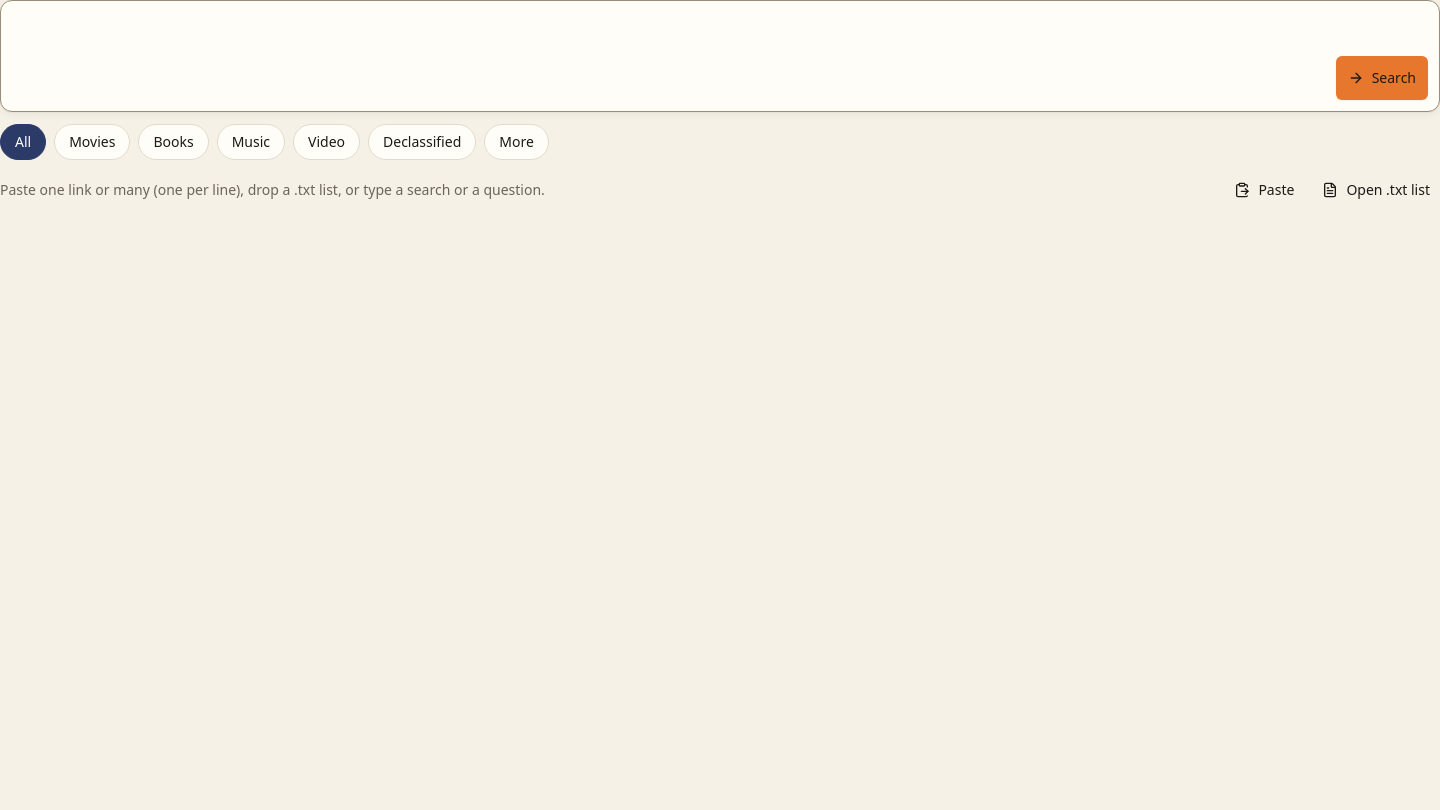
Test: PasteBox › probes one link and opens the preview
Type "files.test/a.zip" into the text box named "Search or paste links" at (720, 56), box left=0, top=0, right=1439, bottom=112
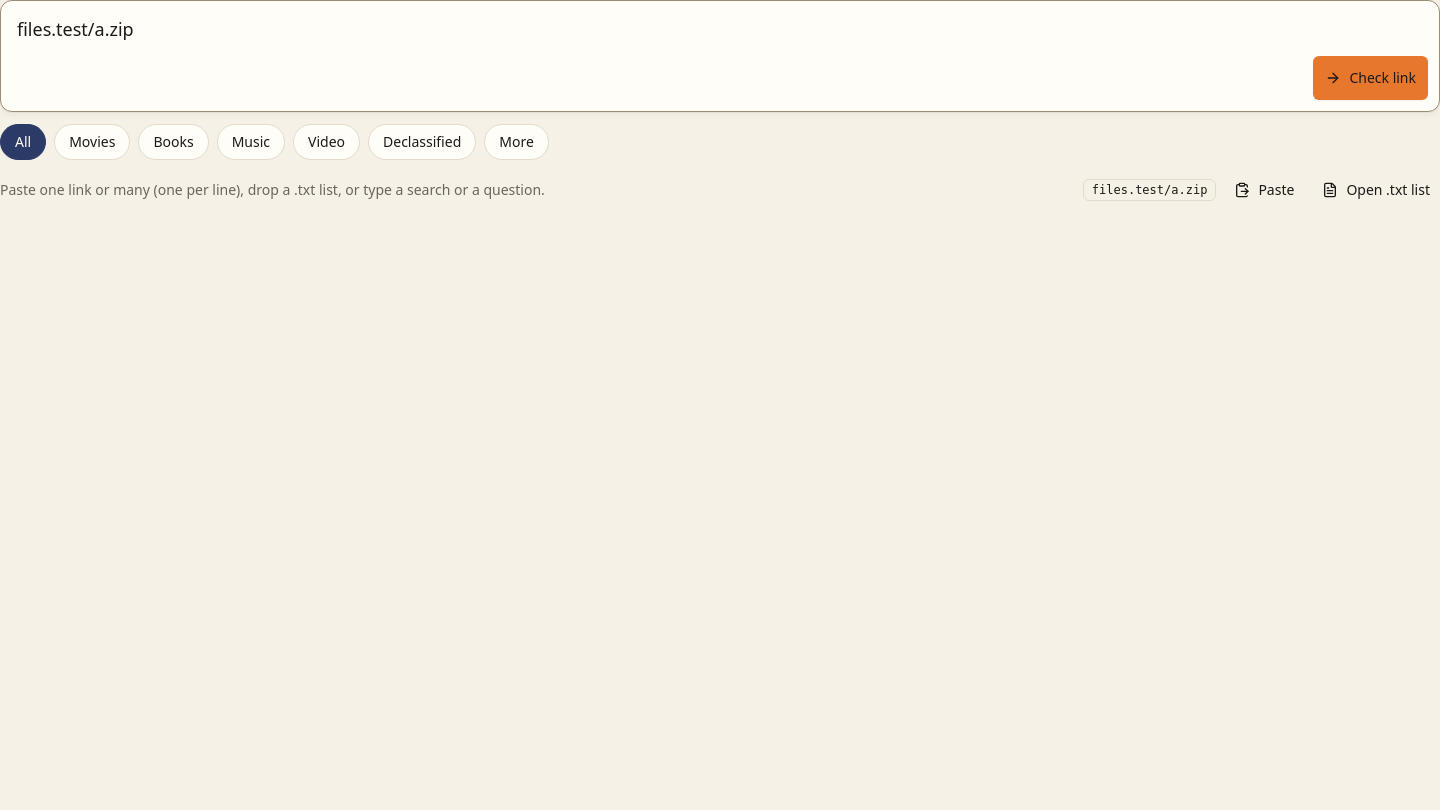
expect the text with test id "detect-chip" shows "files.test": met, box left=1092, top=183, right=1207, bottom=197
Click the button "Check link" at (1371, 78), box left=1313, top=56, right=1428, bottom=100
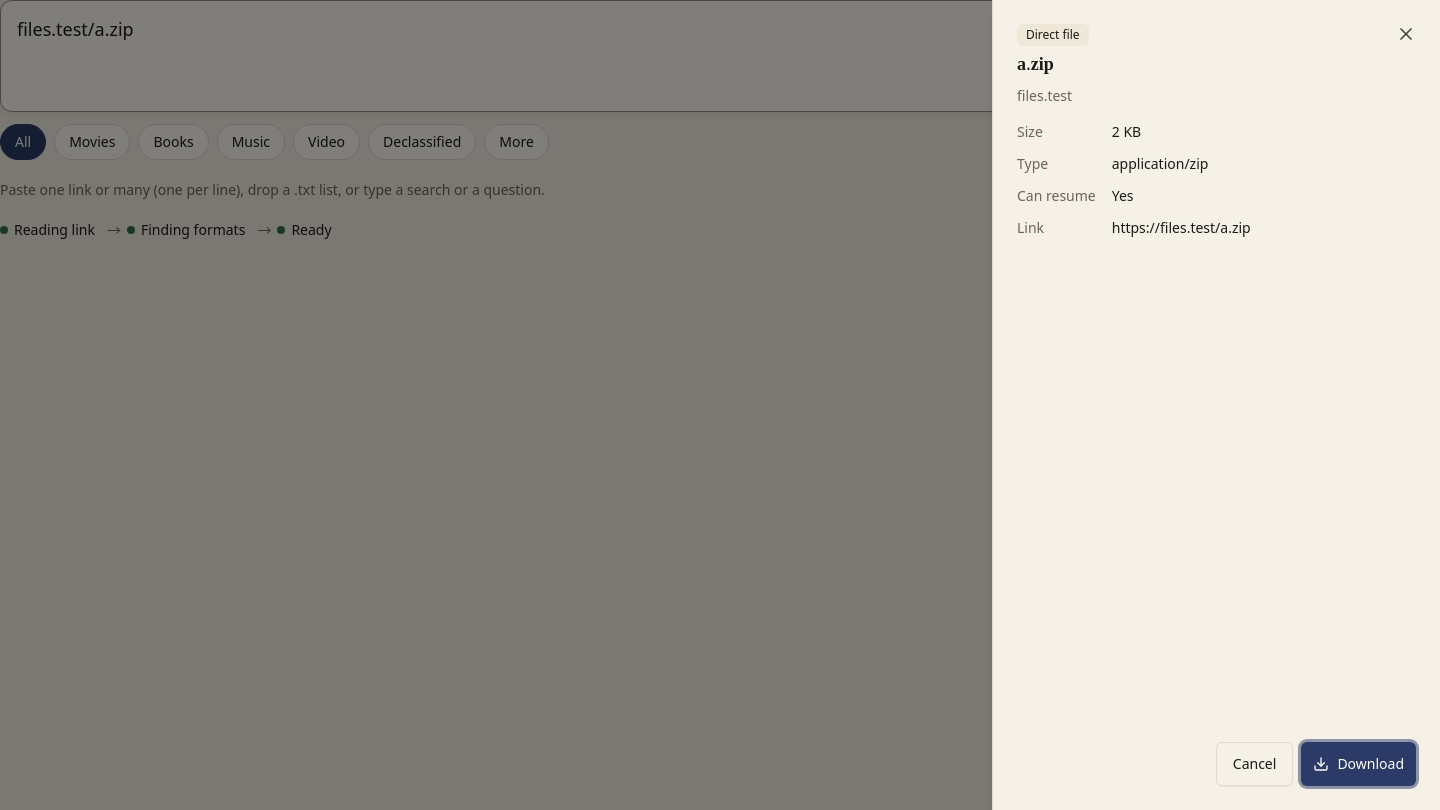
expect the dialog shows "a.zip": met, box left=1017, top=51, right=1054, bottom=81
